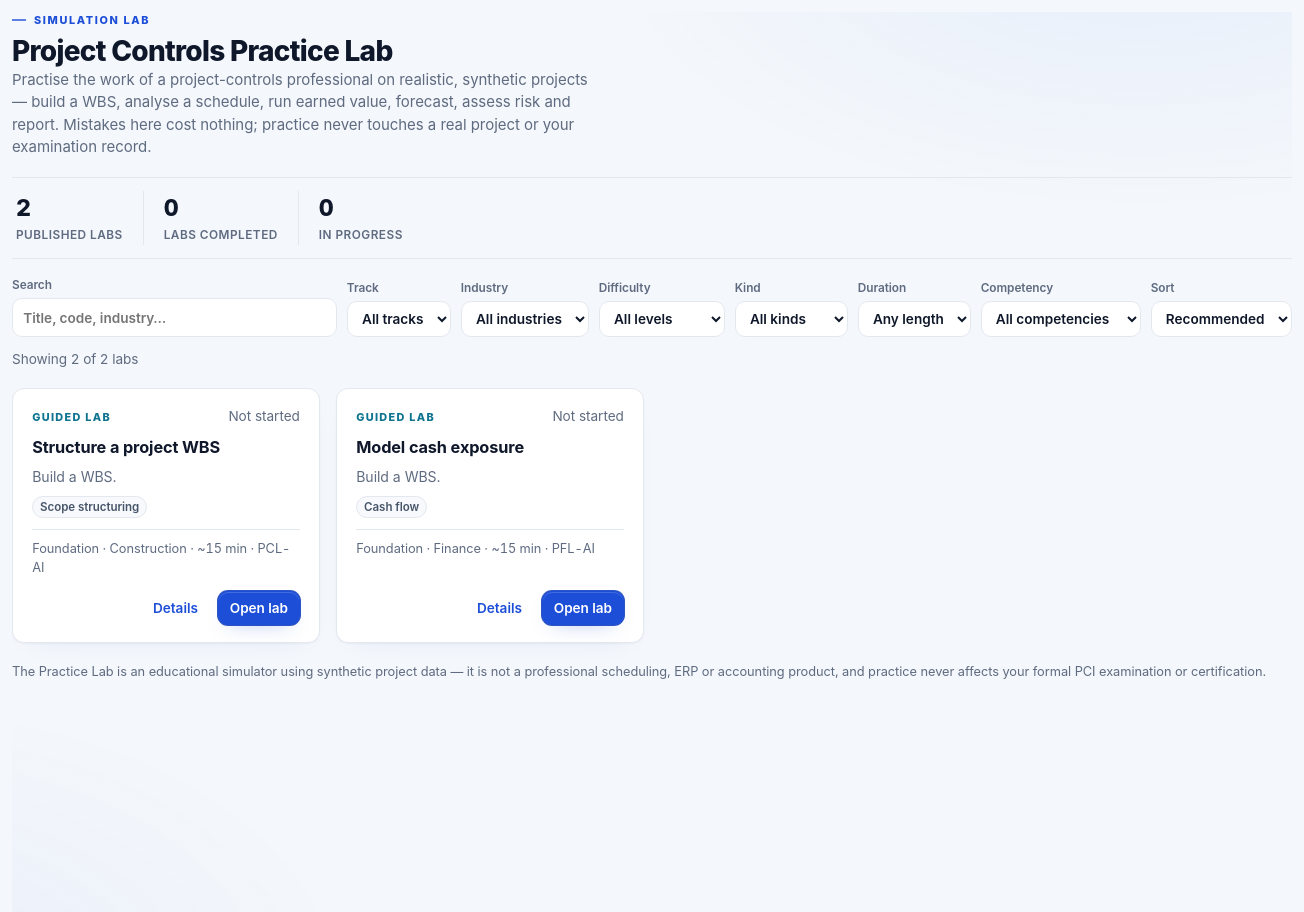
Scenario: Lab (Simulation Lab landing) › filters the catalogue by industry and shows track badges
Expected: the heading "Structure a project WBS" is shown, left=32, top=437, right=220, bottom=457
Expected: the heading "Model cash exposure" is shown, left=356, top=437, right=524, bottom=457
Select "Finance" in the dropdown named "Filter by industry": (525, 319) left=461, top=301, right=589, bottom=337
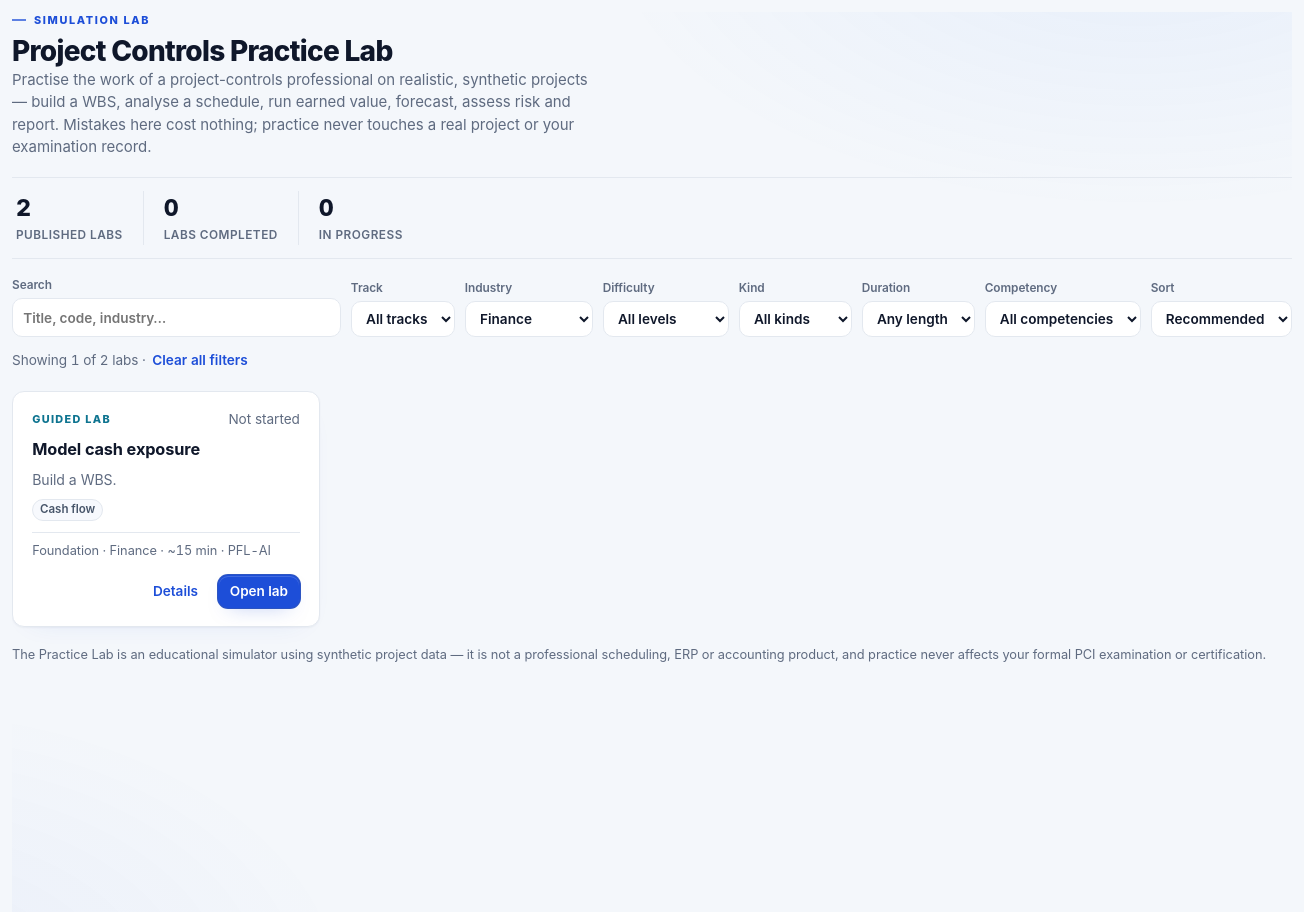
Expected: the heading "Model cash exposure" is shown, left=32, top=439, right=200, bottom=459
Expected: the heading "Structure a project WBS" is gone
